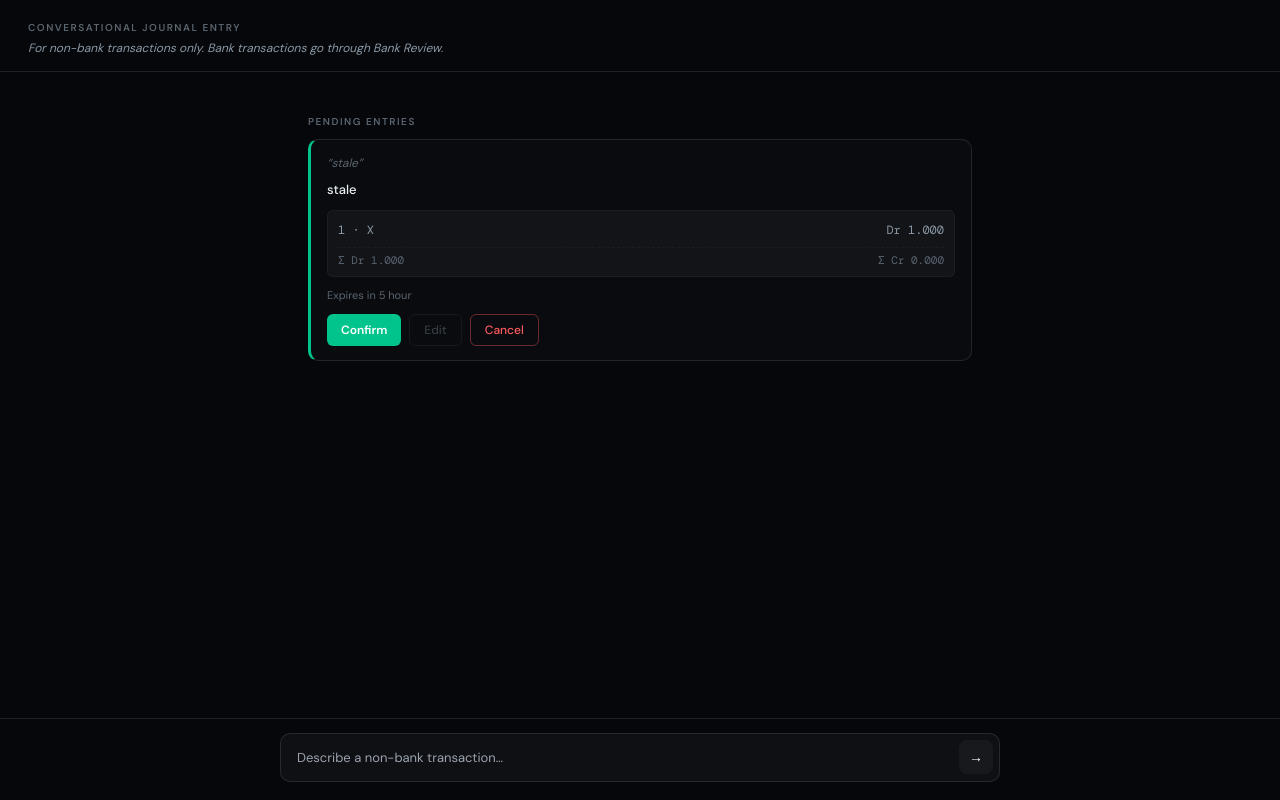
Test: HASEEB-406 — ConversationalJEScreen multi-pending UI › (4) a 410 PENDING_EXPIRED on cancel shows the expired message and drops the stale card
Expected: the element with test id "pending-card-c-stale" is shown, [308,139,972,360]
What coordinates should you click on to do the following:
click the button with aria-label "Cancel"
I would click on:
 (504, 330)
Its box is [470,314,539,346].
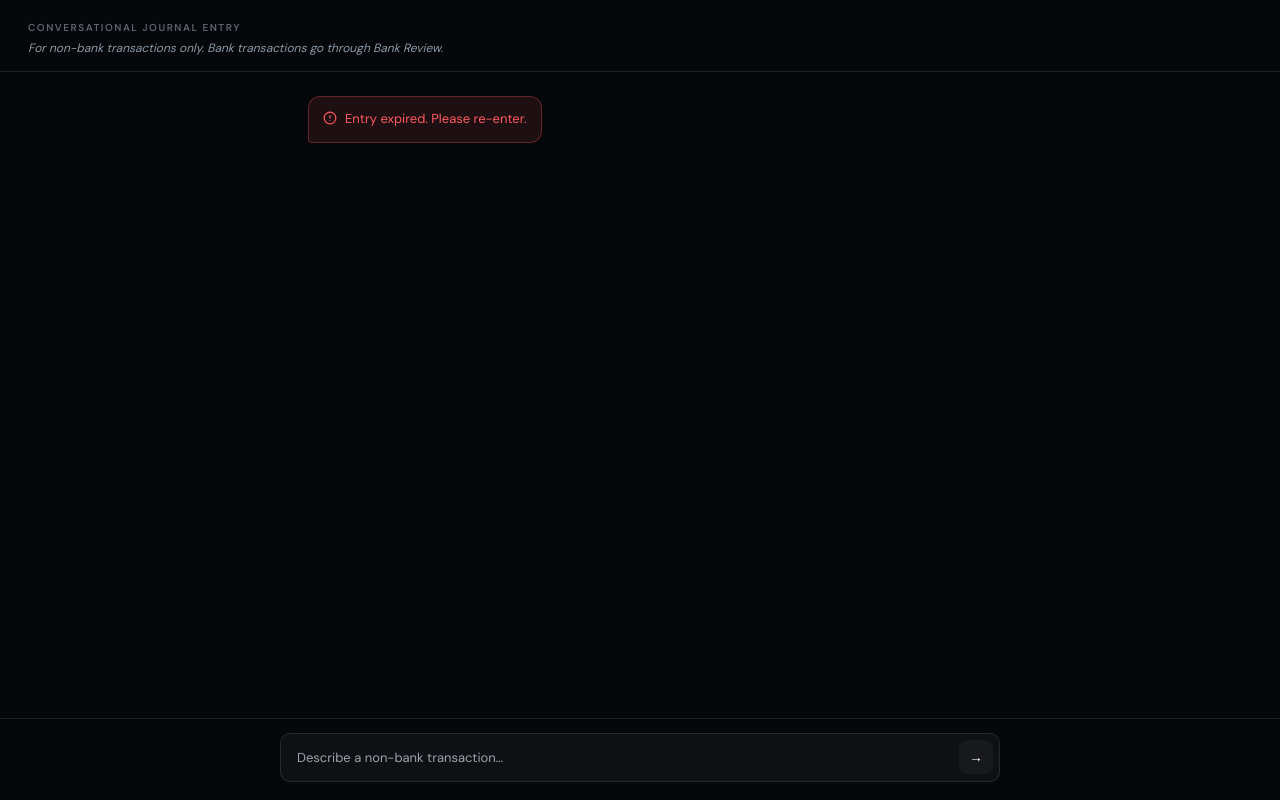
Result: the element with test id "pending-card-c-stale" is gone
Result: the text "Entry expired. Please re-enter." is shown at [345,109,527,130]
